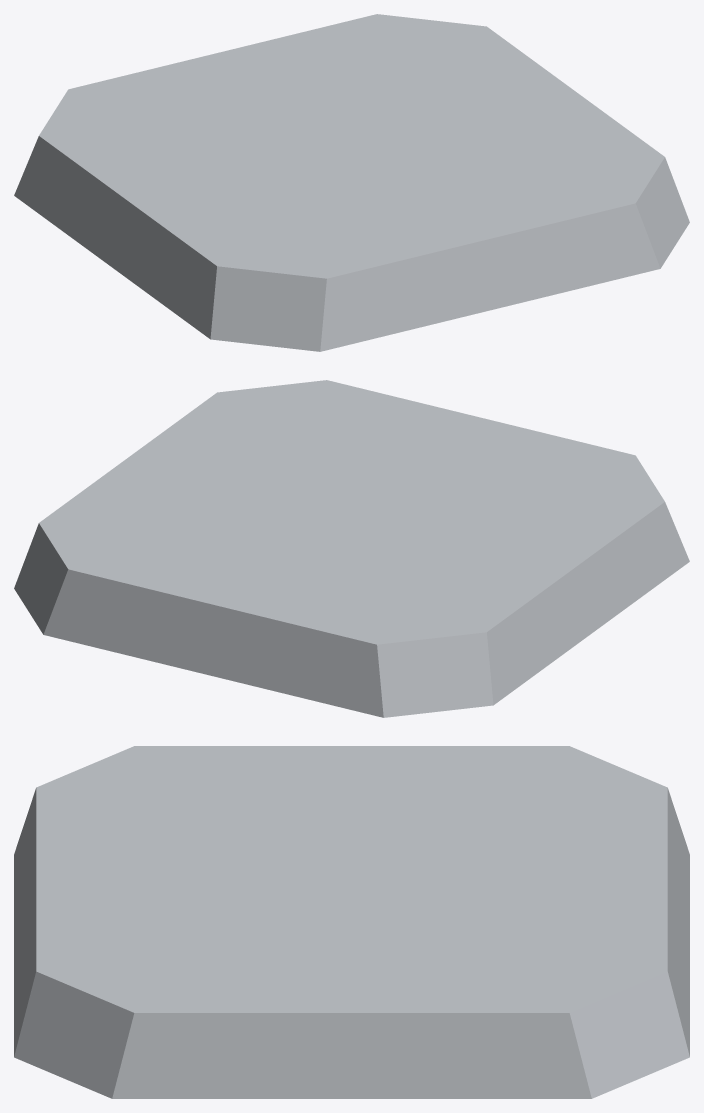
File: Rock_Tile_m_11.fbx
3 renders of one model, top to bottom at view 1: azimuth 30°, elevation 25°; view 2: azimuth 150°, elevation 25°; view 3: azimuth 270°, elevation 25°, orthographic. The views are drawn at different scales.
Visible parts, largest first — view 1: Rock_Tile_m_11; view 2: Rock_Tile_m_11; view 3: Rock_Tile_m_11.
Part boxes in pixels (x1,y1,x2,y2): Rock_Tile_m_11: (14, 14, 689, 351); Rock_Tile_m_11: (14, 380, 689, 717); Rock_Tile_m_11: (14, 746, 689, 1098).
Bounding box in the file's own units: 40 × 5 × 40.
